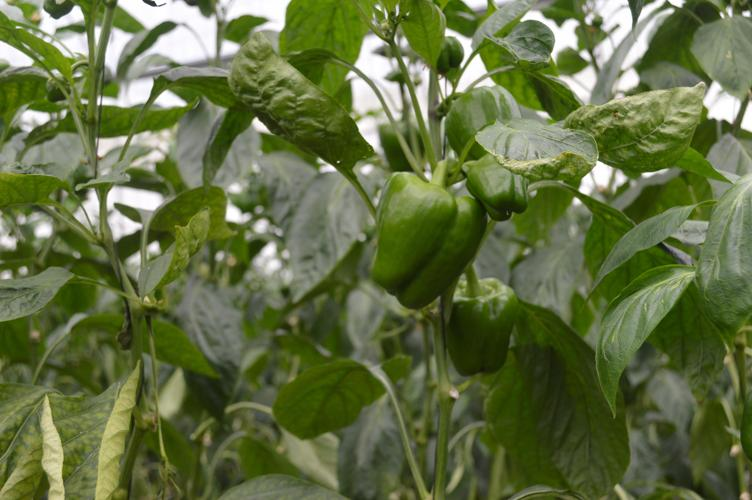BellPepper: (359, 172, 485, 315), (438, 288, 523, 376), (455, 144, 532, 236)
